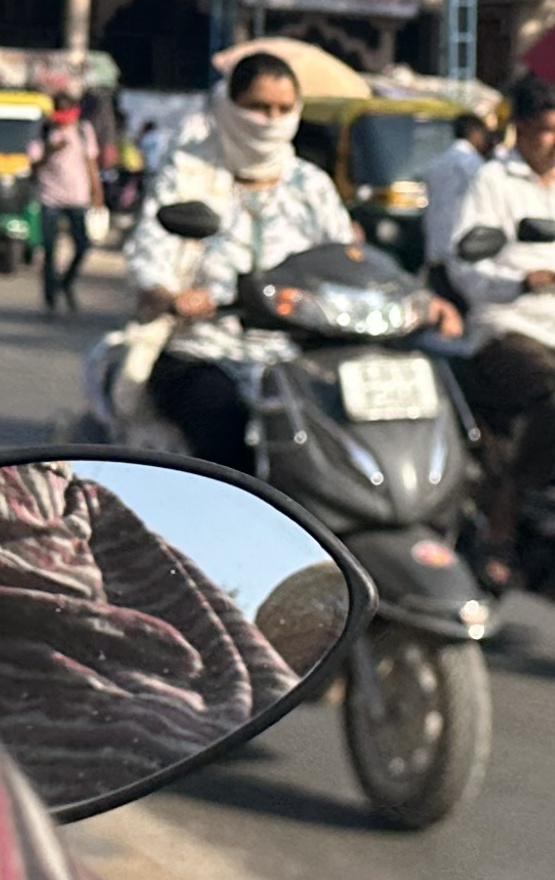BikeWithRider: (55, 37, 517, 841)
NoHelmet: (193, 40, 319, 172)
